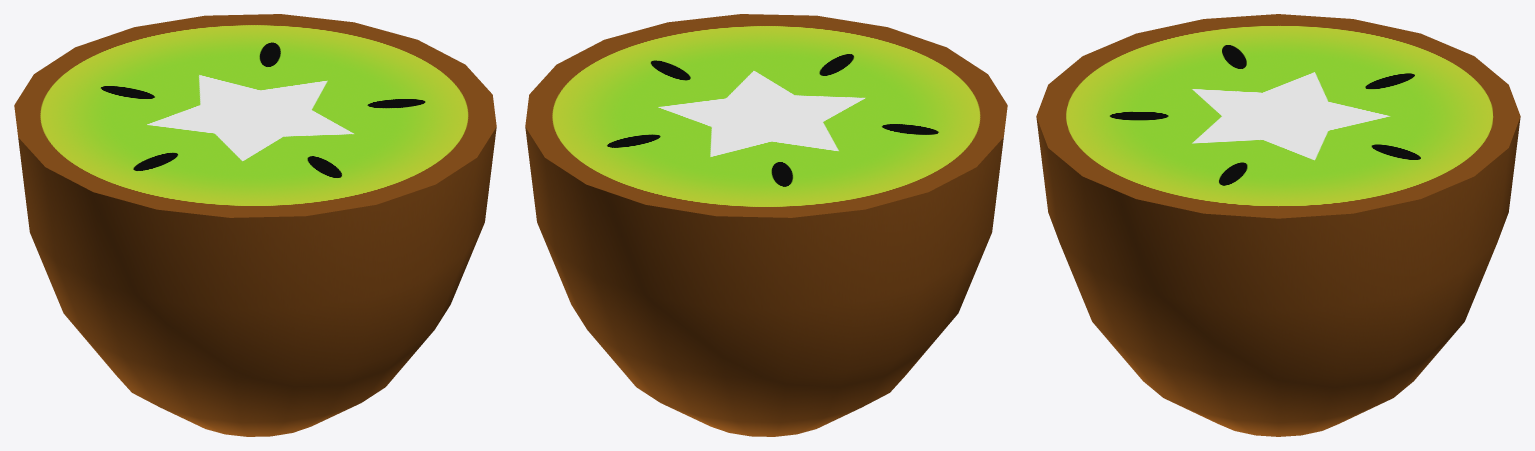
Rendered from kiwi.fbx.
The picture shows the model from 3 angles, left to right: view 1: azimuth 30°, elevation 25°; view 2: azimuth 150°, elevation 25°; view 3: azimuth 270°, elevation 25°; orthographic projection.
Parts seen in each view (by area): view 1: Sphere_1; view 2: Sphere_1; view 3: Sphere_1.
Part boxes in pixels (bbox=[...]): Sphere_1: bbox=[14, 14, 496, 436]; Sphere_1: bbox=[525, 14, 1007, 436]; Sphere_1: bbox=[1036, 14, 1520, 436].
Size of the model in its own units: 45.68 by 31.61 by 45.68.
Materials: 1 (1 with a texture image).
